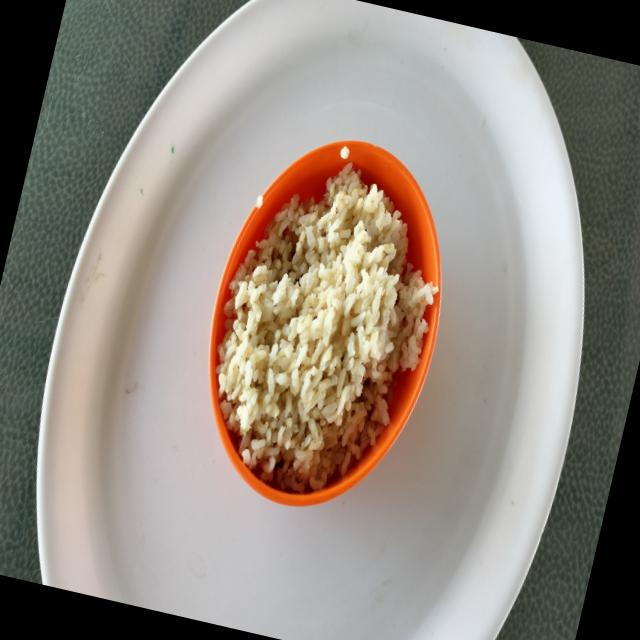brown-rice: (216, 164, 433, 493)
